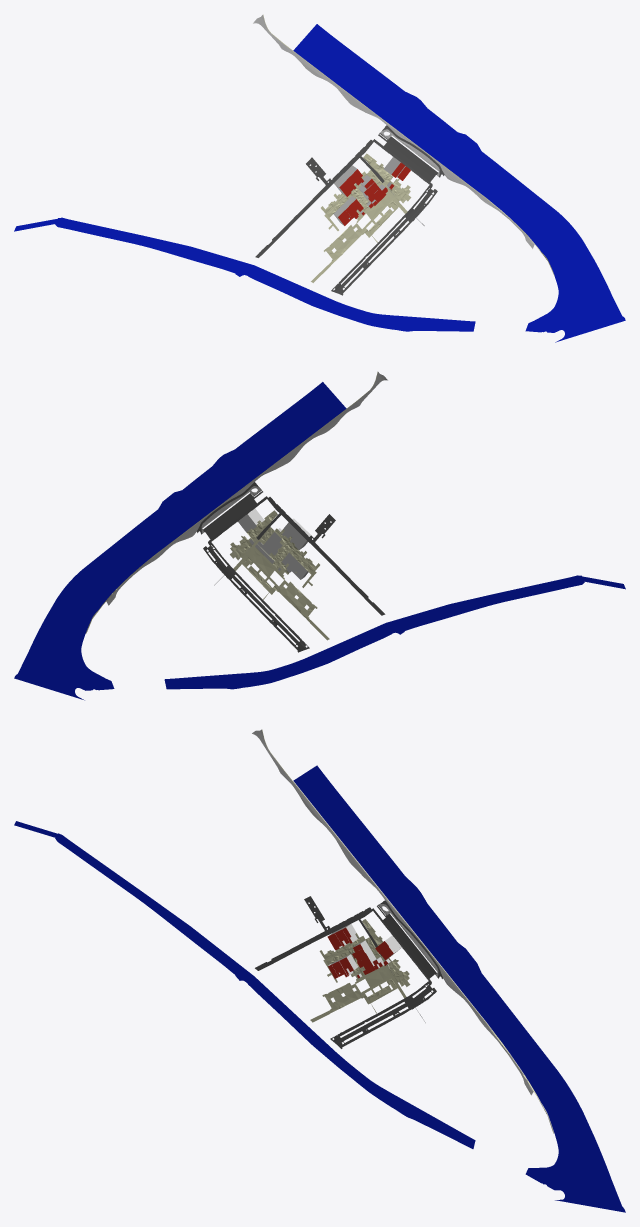
File: extent_green.obj
The picture shows the model from 3 angles, top to bottom: view 1: azimuth 30°, elevation 25°; view 2: azimuth 150°, elevation 25°; view 3: azimuth 330°, elevation 25°; orthographic projection.
Visible parts, largest first — view 1: b69a8d7bc-2d38-11e6-9a38-393caa90be70, bedab6302-00c8-11e6-b420-2bdcc4ab5d7f, b2c160b4d-2d29-11e6-9a38-393caa90be70, b983a1b0d-00c9-11e6-b420-2bdcc4ab5d7f, b4138231e-00b4-11e6-b420-2bdcc4ab5d7f, b22250278-00b5-11e6-b420-2bdcc4ab5d7f, b4138bef7-00b4-11e6-b420-2bdcc4ab5d7f, baf053805-00c9-11e6-b420-2bdcc4ab5d7f, b9f68f153-00c9-11e6-b420-2bdcc4ab5d7f; view 2: b69a8d7bc-2d38-11e6-9a38-393caa90be70, bedab6302-00c8-11e6-b420-2bdcc4ab5d7f, b2c160b4d-2d29-11e6-9a38-393caa90be70, b983a1b0d-00c9-11e6-b420-2bdcc4ab5d7f, b4138231e-00b4-11e6-b420-2bdcc4ab5d7f, b22250278-00b5-11e6-b420-2bdcc4ab5d7f, b4138bef7-00b4-11e6-b420-2bdcc4ab5d7f, baf053805-00c9-11e6-b420-2bdcc4ab5d7f, b82575848-2d29-11e6-9a38-393caa90be70, b9f68f153-00c9-11e6-b420-2bdcc4ab5d7f; view 3: b69a8d7bc-2d38-11e6-9a38-393caa90be70, bedab6302-00c8-11e6-b420-2bdcc4ab5d7f, b2c160b4d-2d29-11e6-9a38-393caa90be70, b4138231e-00b4-11e6-b420-2bdcc4ab5d7f, b983a1b0d-00c9-11e6-b420-2bdcc4ab5d7f, b82575848-2d29-11e6-9a38-393caa90be70, b22250278-00b5-11e6-b420-2bdcc4ab5d7f.
Part boxes in pixels (<box>): b69a8d7bc-2d38-11e6-9a38-393caa90be70: <box>293,24,625,342</box>; bedab6302-00c8-11e6-b420-2bdcc4ab5d7f: <box>14,217,475,331</box>; b2c160b4d-2d29-11e6-9a38-393caa90be70: <box>253,15,534,248</box>; b983a1b0d-00c9-11e6-b420-2bdcc4ab5d7f: <box>255,140,384,257</box>; b4138231e-00b4-11e6-b420-2bdcc4ab5d7f: <box>311,182,407,282</box>; b22250278-00b5-11e6-b420-2bdcc4ab5d7f: <box>321,170,382,217</box>; b4138bef7-00b4-11e6-b420-2bdcc4ab5d7f: <box>363,153,411,203</box>; baf053805-00c9-11e6-b420-2bdcc4ab5d7f: <box>334,189,432,293</box>; b9f68f153-00c9-11e6-b420-2bdcc4ab5d7f: <box>339,189,437,295</box>; b69a8d7bc-2d38-11e6-9a38-393caa90be70: <box>14,382,346,700</box>; bedab6302-00c8-11e6-b420-2bdcc4ab5d7f: <box>164,575,625,689</box>; b2c160b4d-2d29-11e6-9a38-393caa90be70: <box>106,372,387,605</box>; b983a1b0d-00c9-11e6-b420-2bdcc4ab5d7f: <box>256,497,385,615</box>; b4138231e-00b4-11e6-b420-2bdcc4ab5d7f: <box>233,539,329,640</box>; b22250278-00b5-11e6-b420-2bdcc4ab5d7f: <box>255,527,319,574</box>; b4138bef7-00b4-11e6-b420-2bdcc4ab5d7f: <box>230,510,277,560</box>; baf053805-00c9-11e6-b420-2bdcc4ab5d7f: <box>208,546,306,651</box>; b82575848-2d29-11e6-9a38-393caa90be70: <box>85,371,377,633</box>; b9f68f153-00c9-11e6-b420-2bdcc4ab5d7f: <box>203,546,301,652</box>; b69a8d7bc-2d38-11e6-9a38-393caa90be70: <box>293,765,625,1212</box>; bedab6302-00c8-11e6-b420-2bdcc4ab5d7f: <box>14,821,475,1148</box>; b2c160b4d-2d29-11e6-9a38-393caa90be70: <box>252,729,533,1095</box>; b4138231e-00b4-11e6-b420-2bdcc4ab5d7f: <box>310,956,406,1022</box>; b983a1b0d-00c9-11e6-b420-2bdcc4ab5d7f: <box>255,896,381,970</box>; b82575848-2d29-11e6-9a38-393caa90be70: <box>262,729,554,1133</box>; b22250278-00b5-11e6-b420-2bdcc4ab5d7f: <box>319,933,382,978</box>.
Bounding box in the file's own units: 524 × 328 × 12.88.
